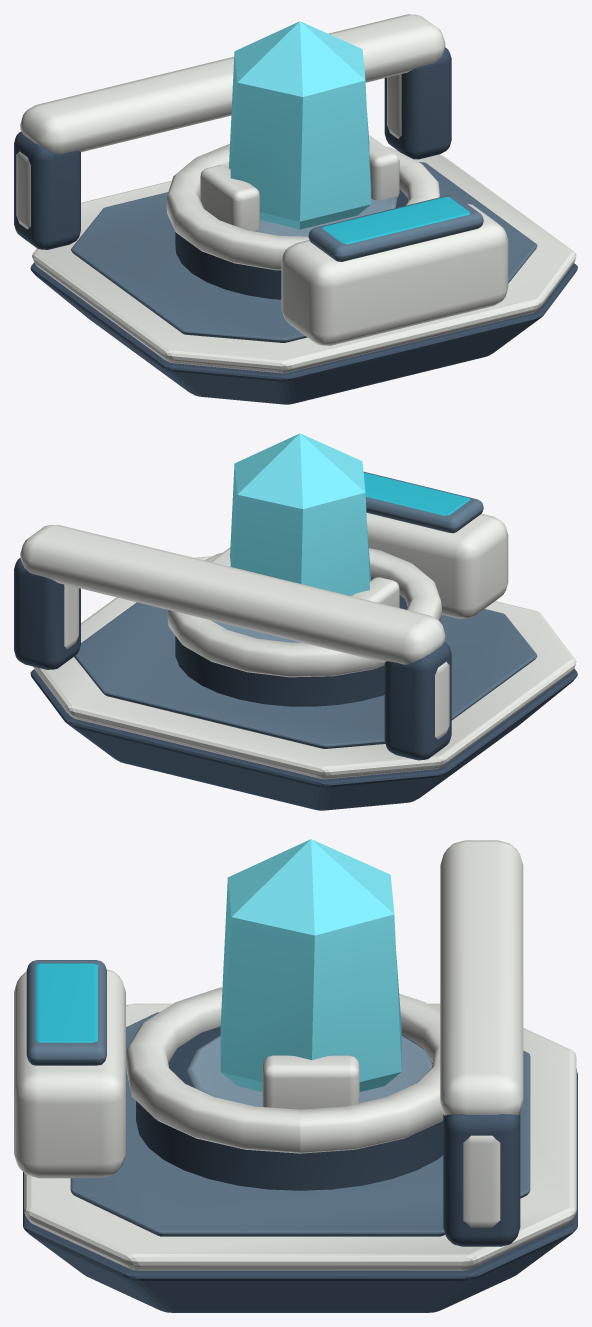
Rendered from crystal_refinery_lv1.glb.
3 views of the same model, one above another, from view 1: azimuth 30°, elevation 25°; view 2: azimuth 150°, elevation 25°; view 3: azimuth 270°, elevation 25° (orthographic). The views are drawn at different scales.
Visible parts, largest first — view 1: Structure; view 2: Structure; view 3: Structure.
Part boxes in pixels (x1,y1,x2,y2): Structure: [14, 14, 577, 404]; Structure: [14, 433, 577, 810]; Structure: [14, 839, 577, 1312].
Size of the model in its own units: 5.8 by 3.9 by 5.29.
